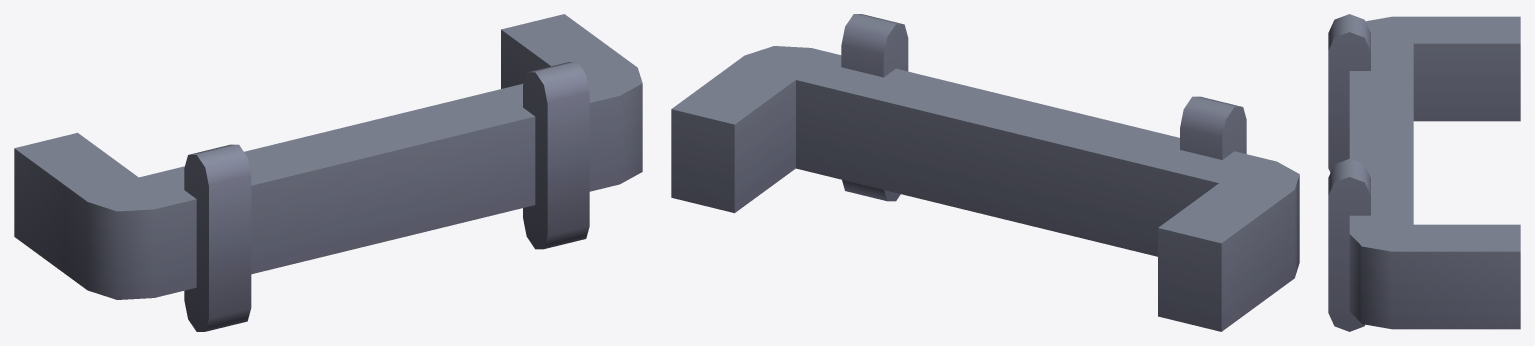
Rendered from debris-bumper.glb.
3 views of the same model, side by side, from view 1: azimuth 30°, elevation 25°; view 2: azimuth 150°, elevation 25°; view 3: azimuth 270°, elevation 25° (orthographic). The views are drawn at different scales.
Parts seen in each view (by area): view 1: debris-bumper; view 2: debris-bumper; view 3: debris-bumper.
Boxes of the visible parts, <box> form: debris-bumper: <box>14,14,642,331</box>; debris-bumper: <box>671,14,1299,331</box>; debris-bumper: <box>1328,14,1520,331</box>.
Size of the model in its own units: 1.3 by 0.4 by 0.4499.
1 material, 1 textured.
